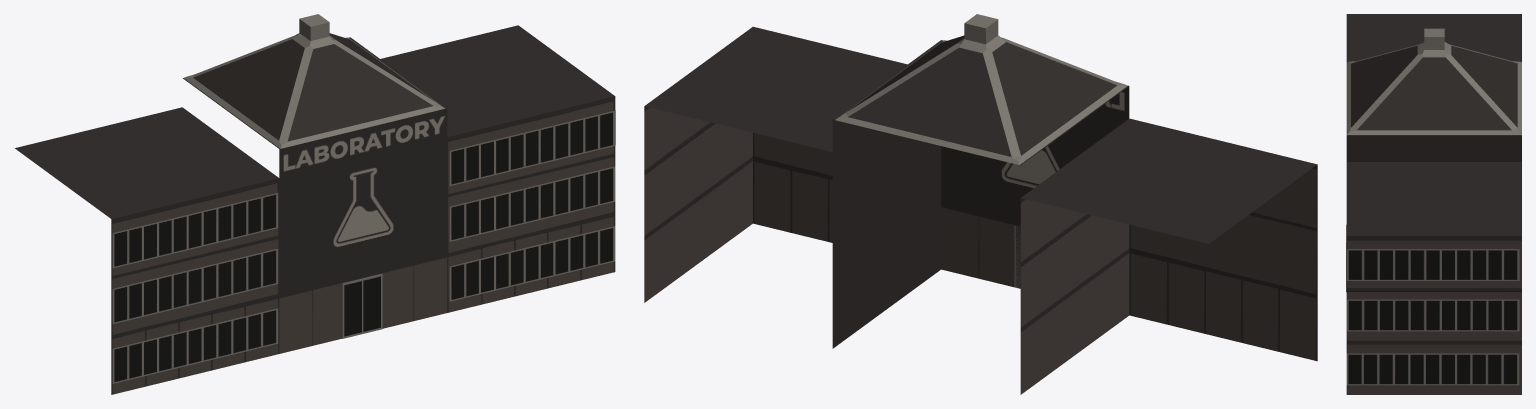
File: Laboratory.fbx
3 renders of one model, left to right at view 1: azimuth 30°, elevation 25°; view 2: azimuth 150°, elevation 25°; view 3: azimuth 270°, elevation 25°, orthographic. The views are drawn at different scales.
Parts seen in each view (by area): view 1: Plane.006; view 2: Plane.006; view 3: Plane.006.
Part boxes in pixels (x1=…): Plane.006: x1=15, y1=14, x2=615, y2=394; Plane.006: x1=644, y1=14, x2=1317, y2=394; Plane.006: x1=1346, y1=14, x2=1521, y2=394.
Bounding box in the file's own units: 1801 × 948 × 603.
Materials: 6 (3 with a texture image).
